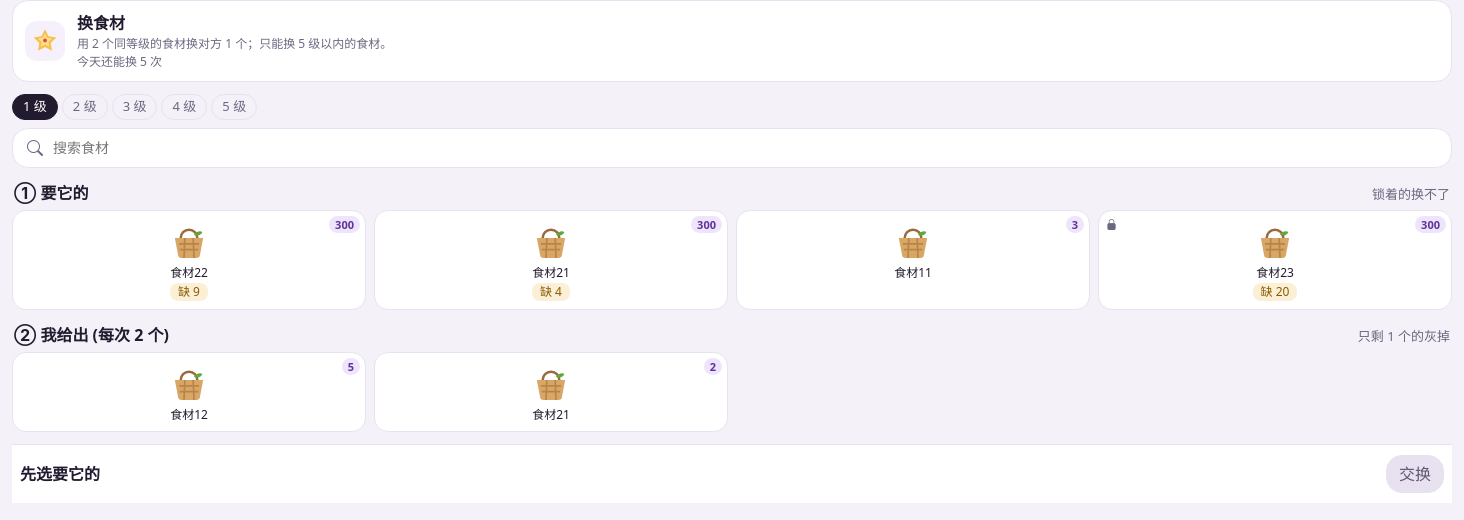
Test: FriendExchangeView › 对方的食材里我学菜缺的排前面、写缺几个，锁着的排最后；按名字搜只筛对方的（backlog 370）
This screenshot has width=1464, height=520.
Click the button with test id "theirs-22" at coordinates (189, 260), box top-left (12, 210), bottom-right (366, 310)
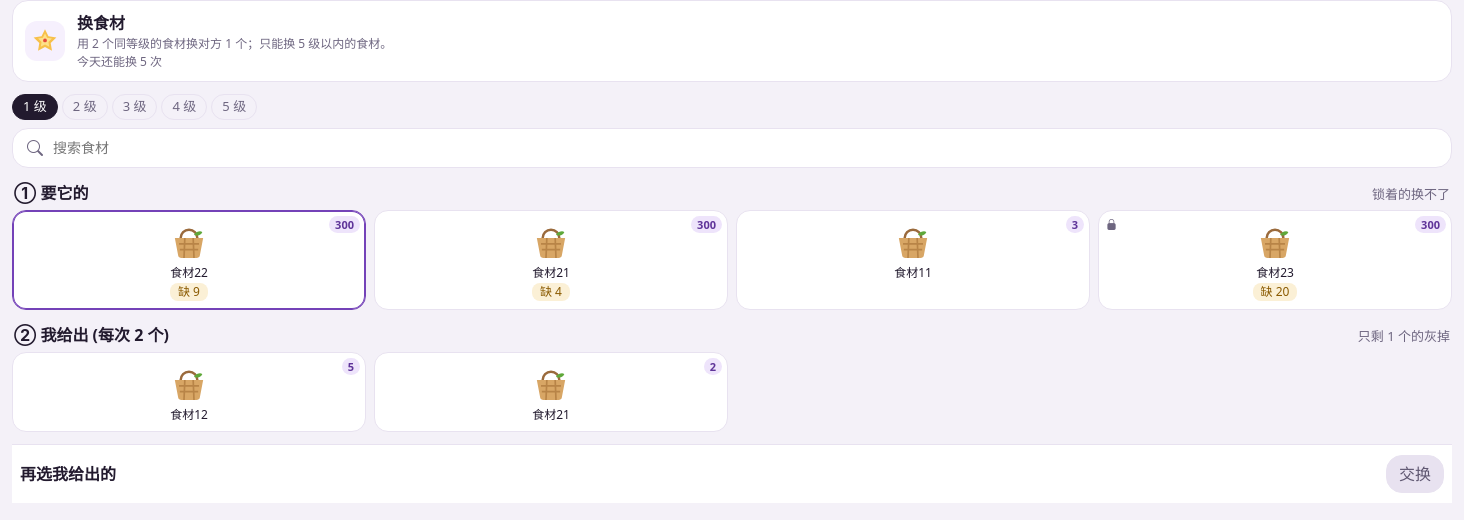
Expected: the element with test id "theirs-11" does not show "缺"
Type "21" into the search field with test id "exchange-search" at coordinates (744, 148), box top-left (51, 136), bottom-right (1437, 159)
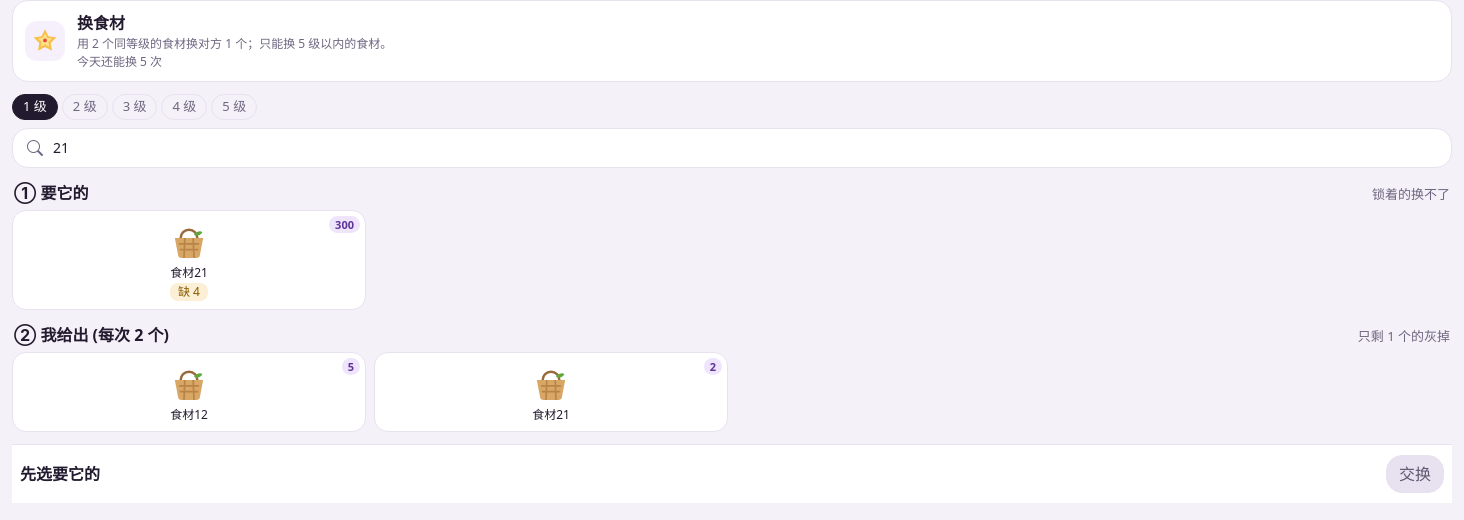
Click the button with test id "mine-12" at coordinates (189, 392), box top-left (12, 352), bottom-right (366, 432)
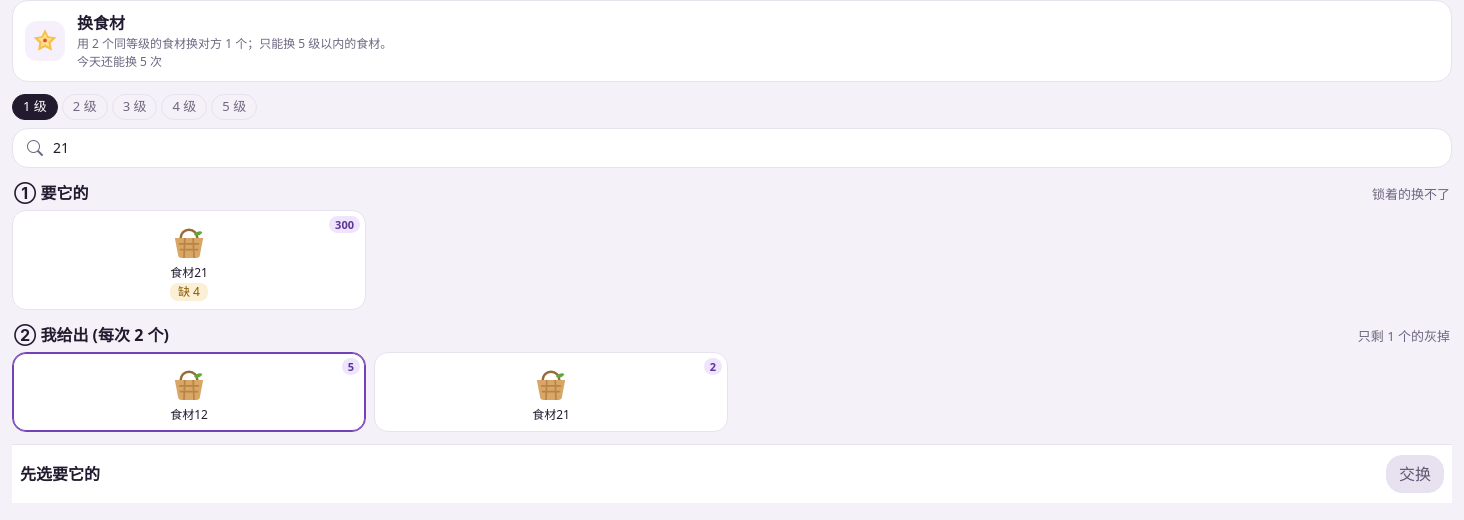
Expected: the button with test id "confirm" is disabled, top-left (1386, 455), bottom-right (1444, 493)
Replace the text in the search field with test id "exchange-search" with "zzz" at coordinates (744, 148), box top-left (51, 136), bottom-right (1437, 159)
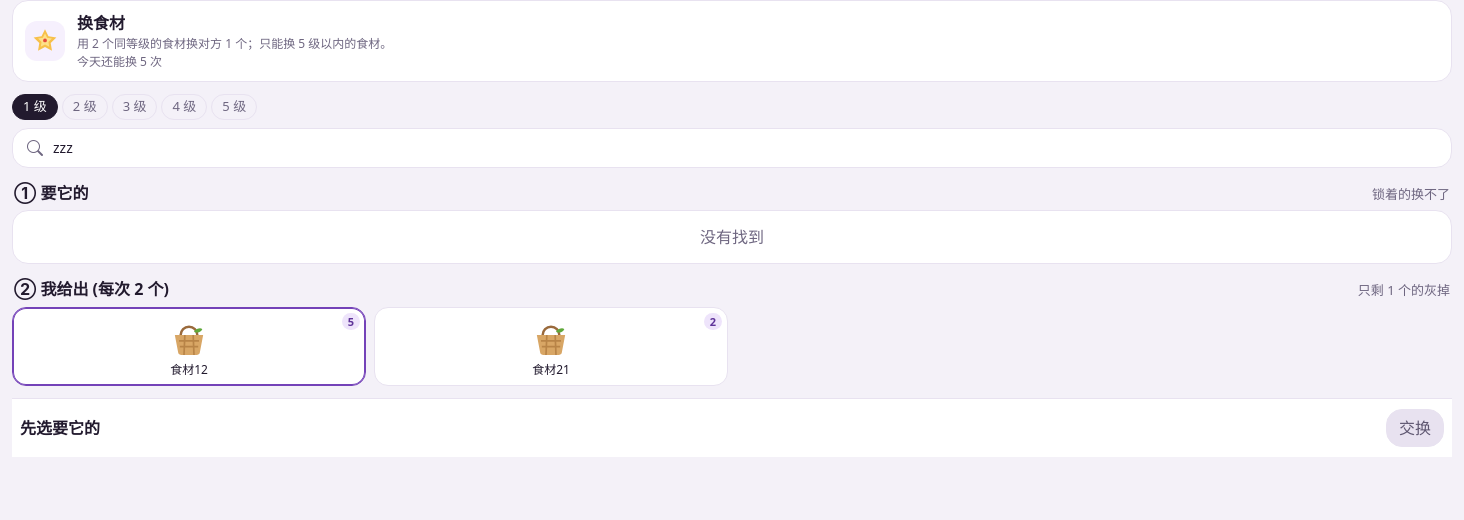
Now the text "没有找到" is shown, box top-left (12, 210), bottom-right (1452, 264)
